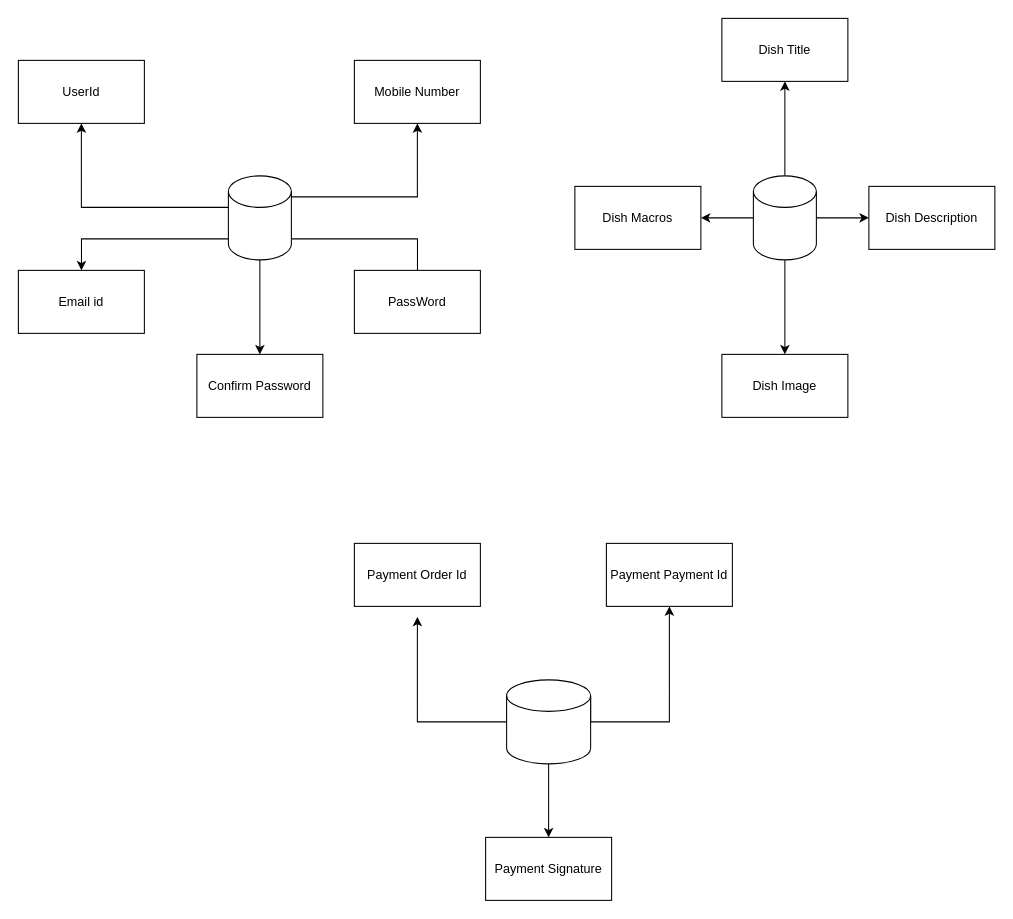
The diagram is 1013 pixels wide and 919 high, and some of its shapes have lost their labels. Each missing label, with the centre of its shape:
Dish Model: the point at 784,217
Payment Model: the point at 548,721
User Model: the point at 259,217
